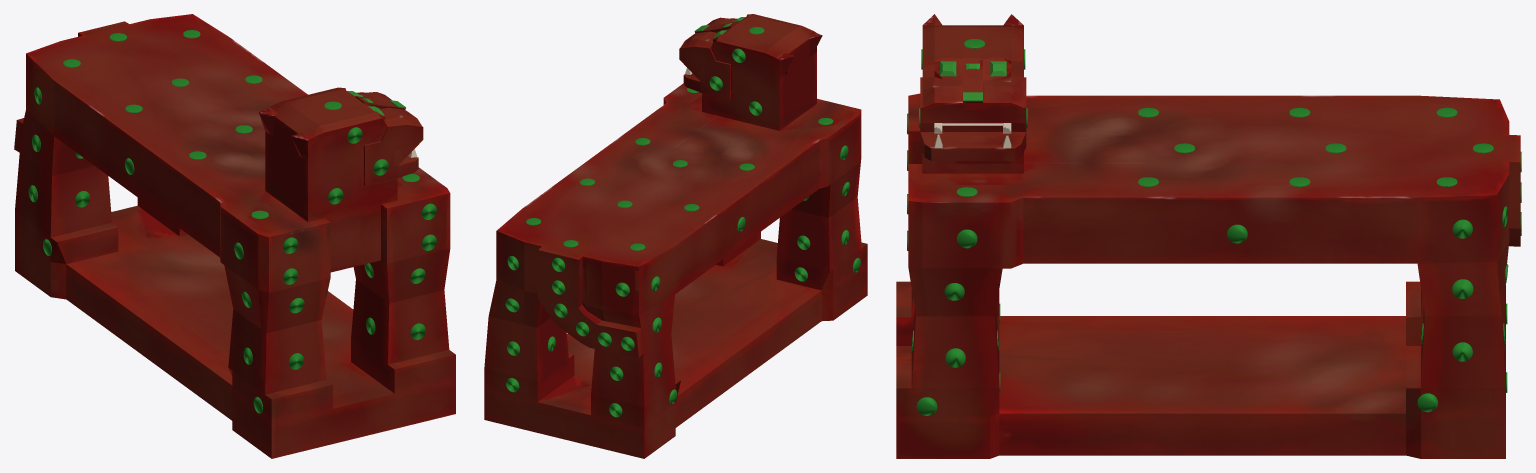
Rendered from Jaguar Throne.fbx.
The picture shows the model from 3 angles, left to right: view 1: azimuth 30°, elevation 25°; view 2: azimuth 150°, elevation 25°; view 3: azimuth 270°, elevation 25°; orthographic projection. The views are drawn at different scales.
Visible parts, largest first — view 1: Jaguar Throne; view 2: Jaguar Throne; view 3: Jaguar Throne.
Boxes of the visible parts, x1,y1,x2,y2 form: Jaguar Throne: [14, 14, 455, 458]; Jaguar Throne: [484, 14, 867, 458]; Jaguar Throne: [896, 14, 1521, 458].
Bounding box in the file's own units: 207 × 319 × 496.
Materials: 78 (1 with a texture image).
